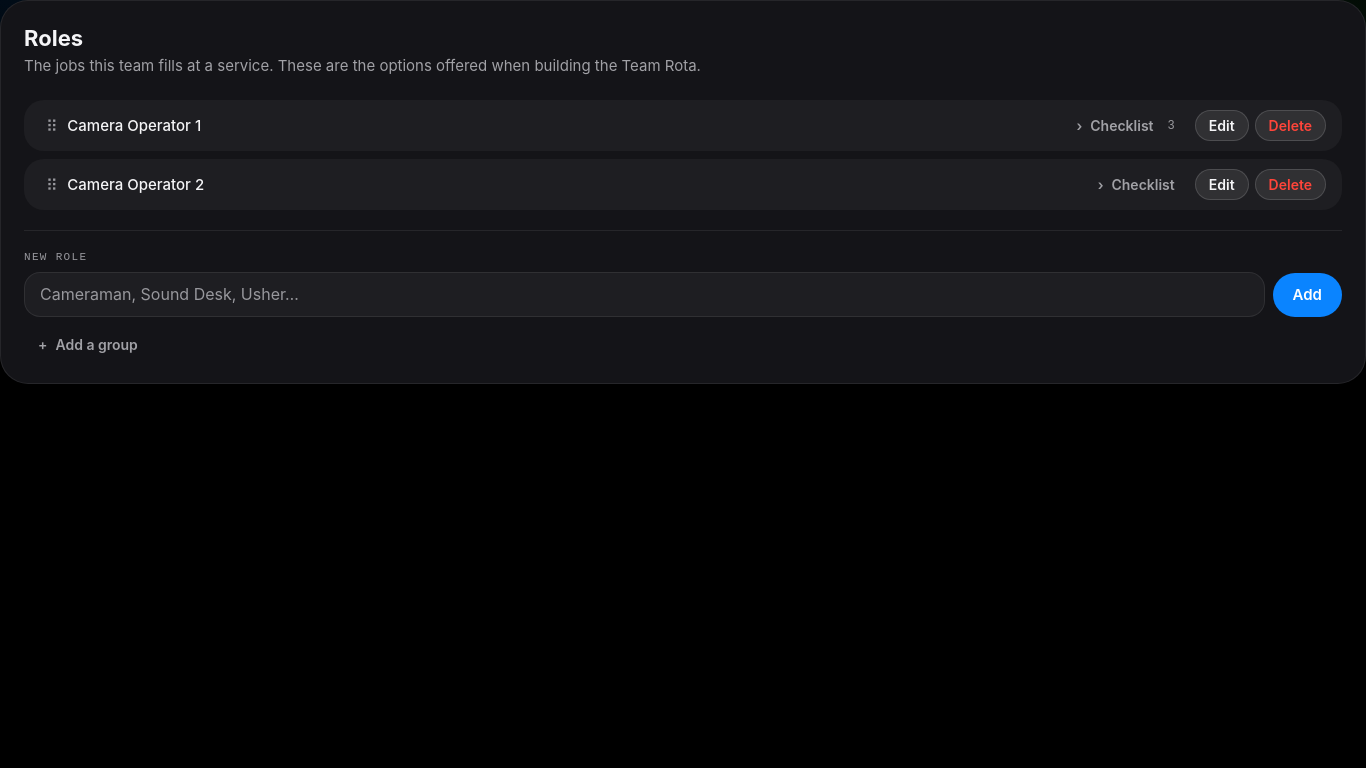
Test: copying a checklist from another role › shows nothing to tick until a role is chosen
Click the button "› Checklist": (1136, 184) [1084,169,1189,200]
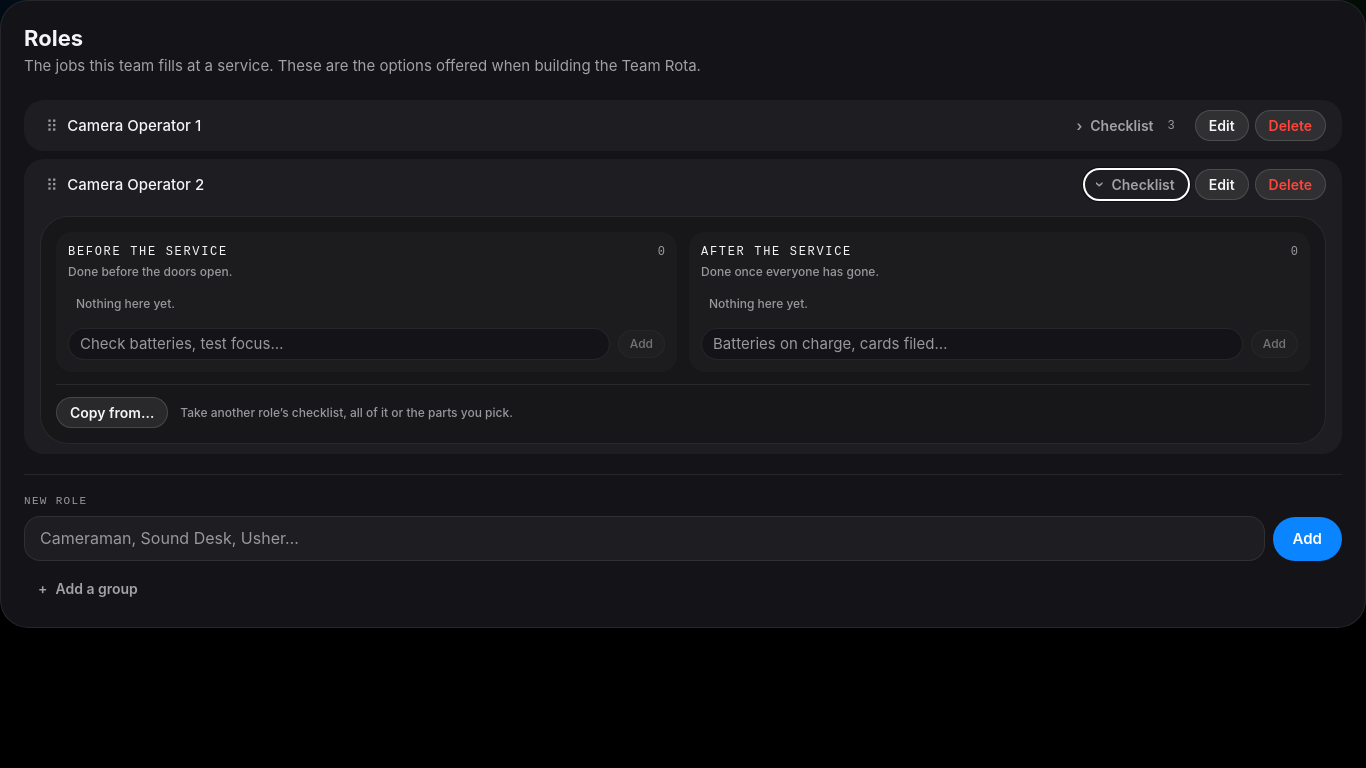
Click the button "Copy from…": (112, 412) [56,397,168,428]
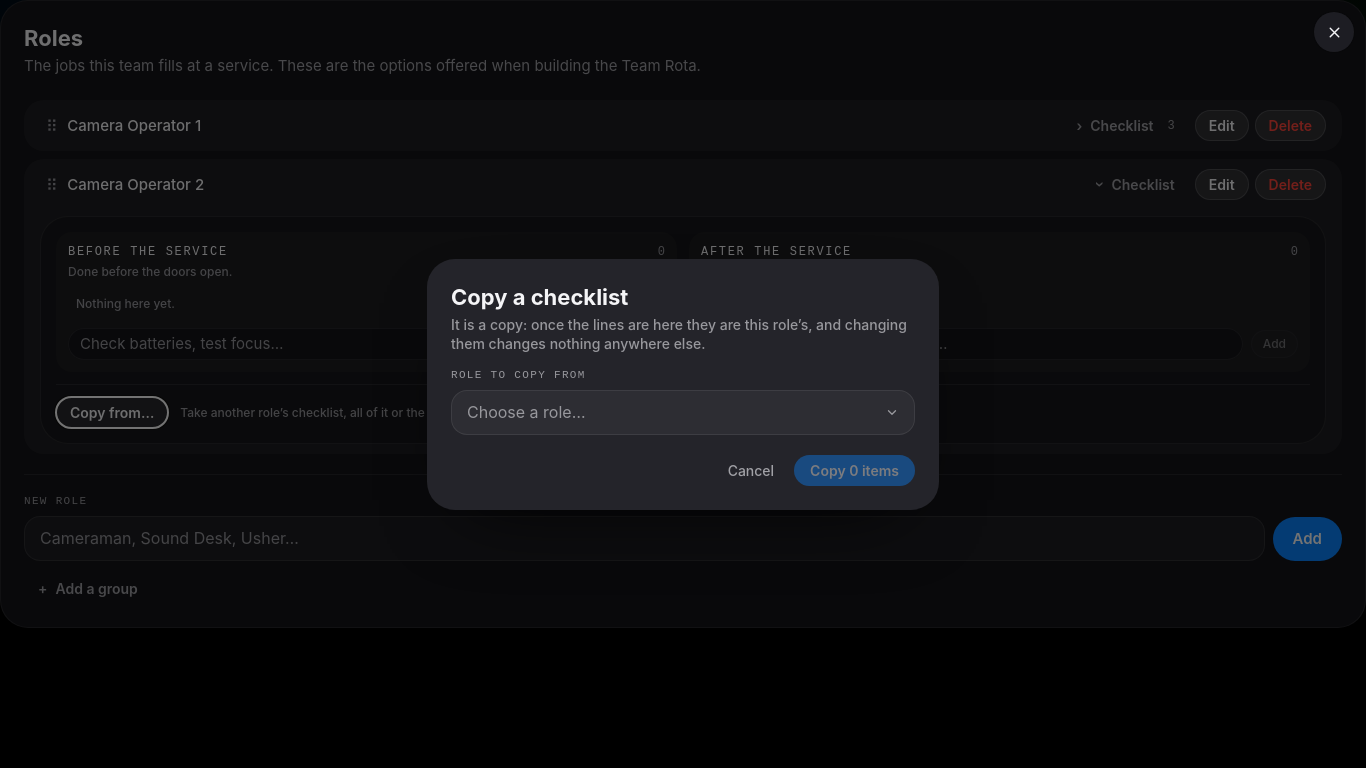
Click the dropdown: (526, 412) [451,390,915,434]
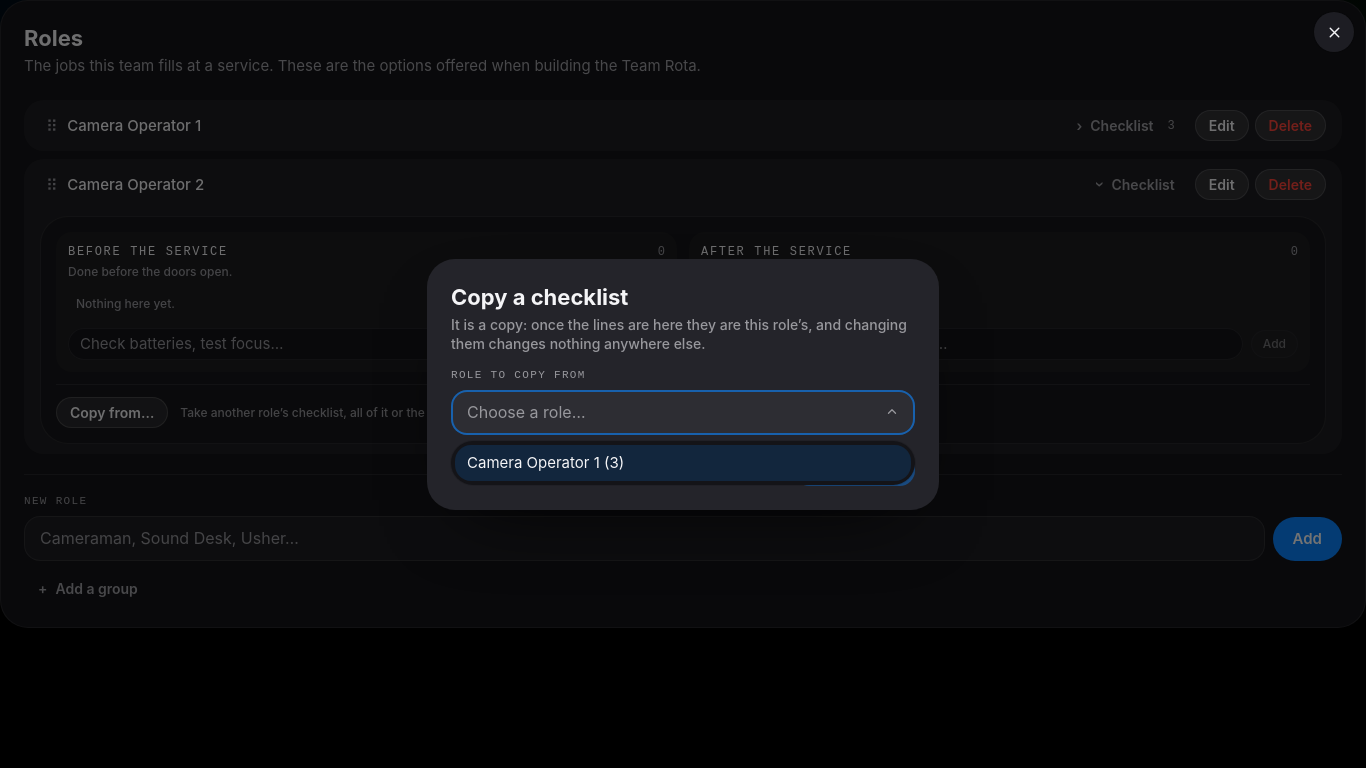
Click the option "Camera Operator 1 (3)": (546, 462) [455,444,911,480]
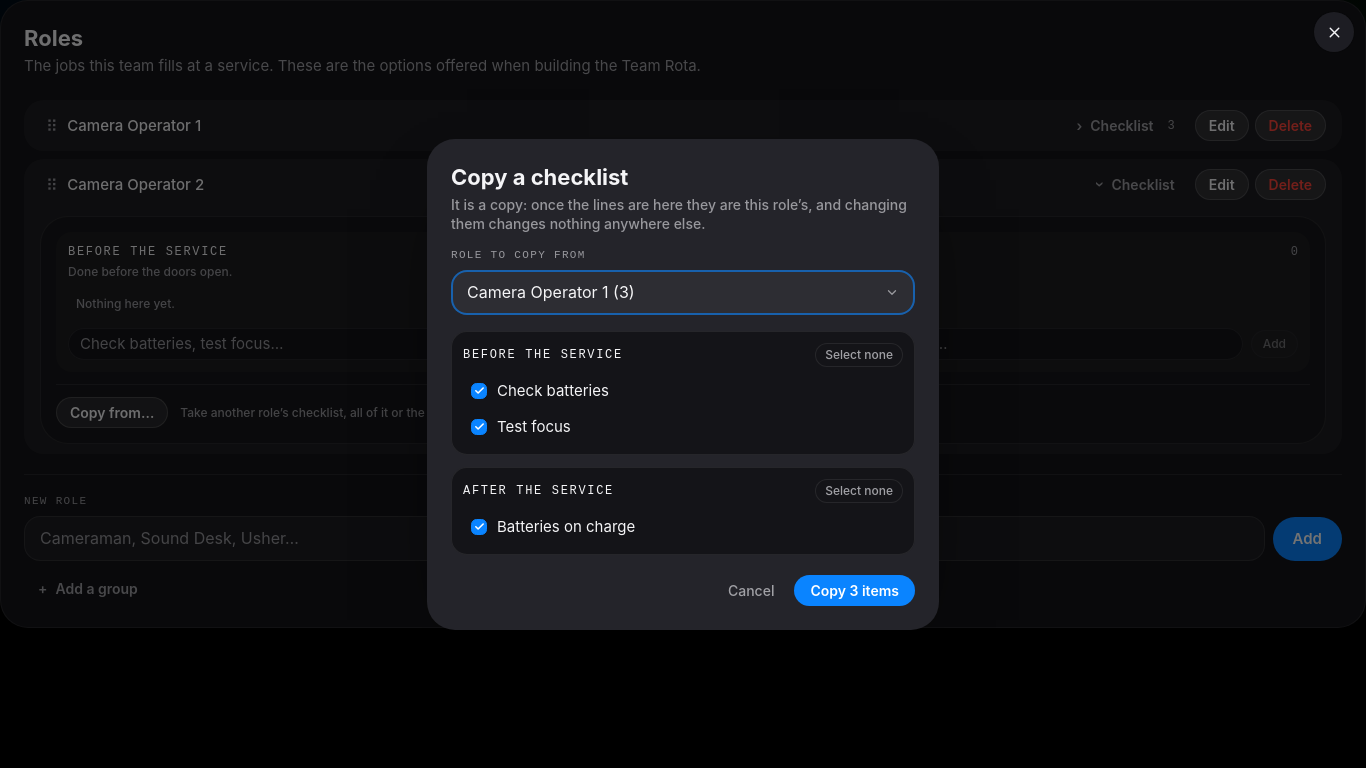
Now the number of checkboxes is 3, box [471,382,487,398]; [471,418,487,434]; [471,518,487,534]
